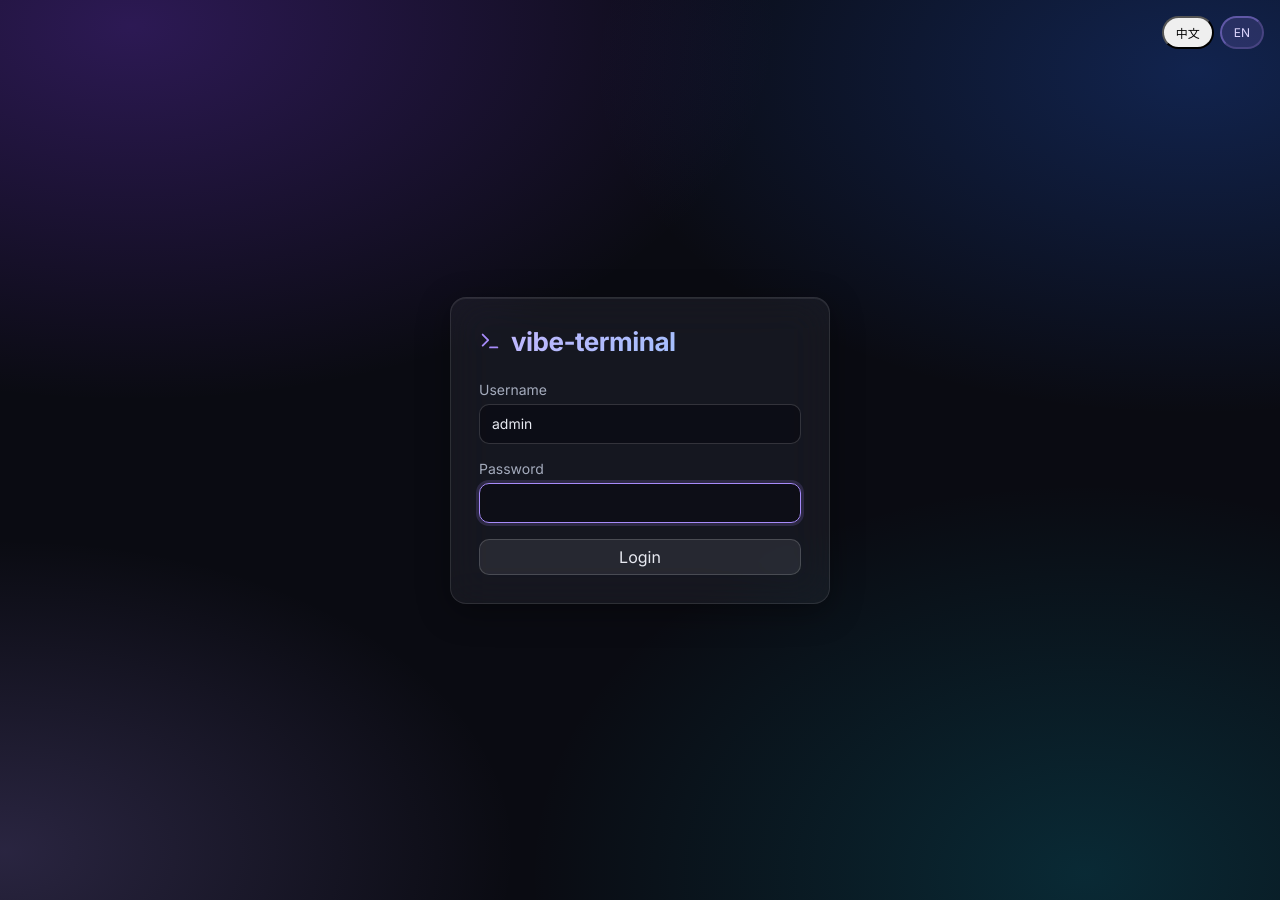
it: LoginView › 提交期间禁用表单并阻止重复提交
Type "secret" into the password field labelled "Password" at {"x": 640, "y": 502}, box [479,482,801,522]
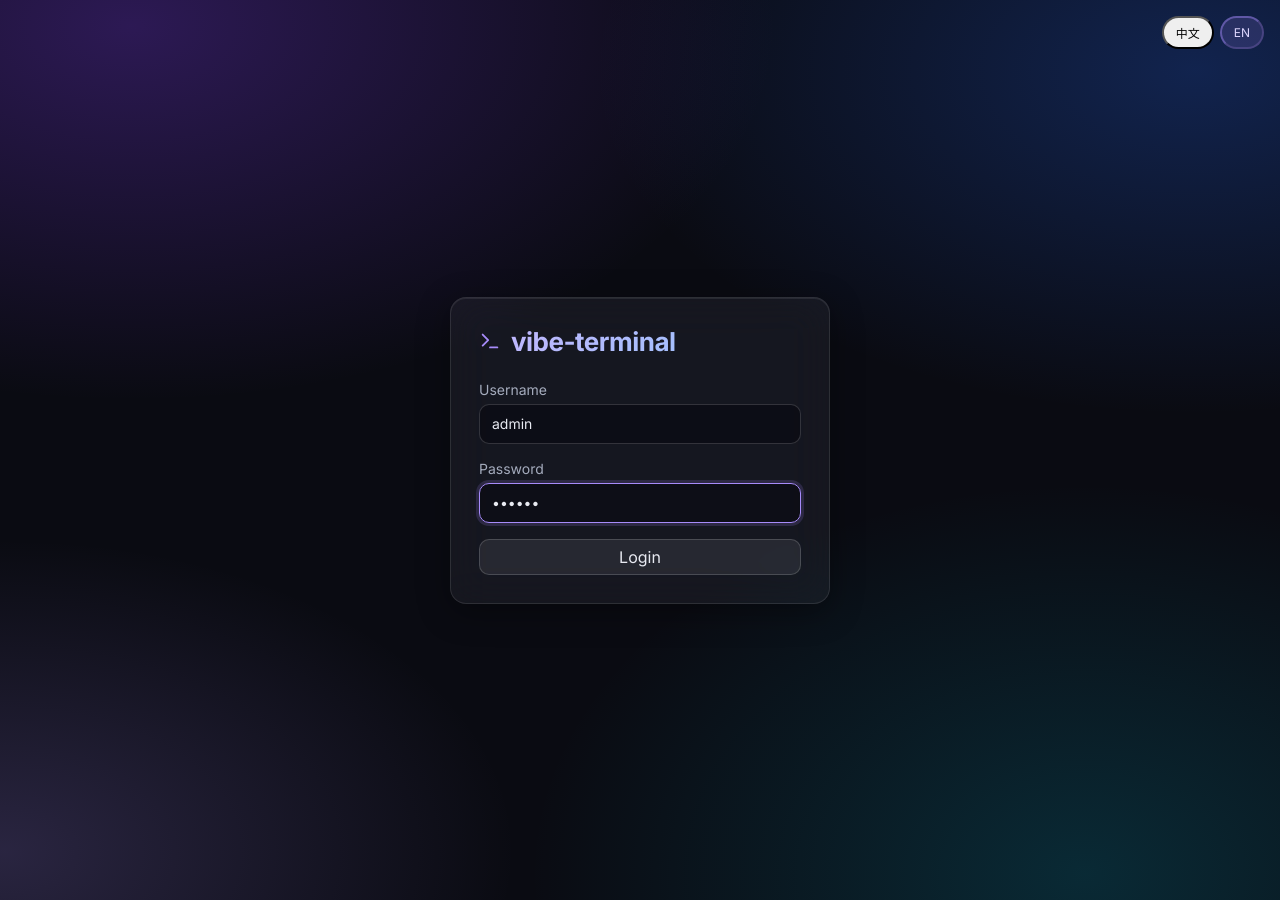
Click the button "Login" at {"x": 640, "y": 556}, box [479,538,801,574]
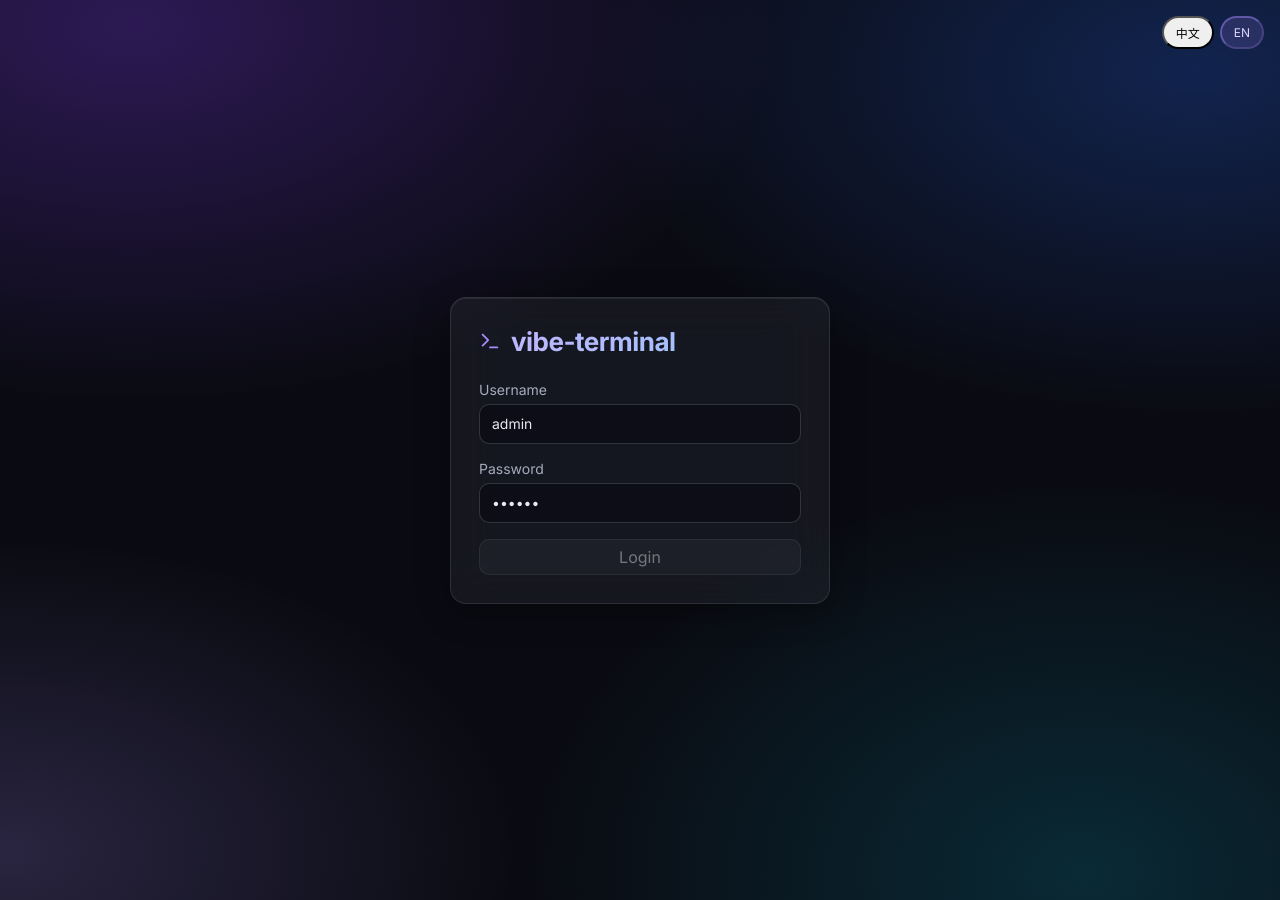
Expected: the button "Login" is disabled
Click the button "Login" at {"x": 640, "y": 556}, box [479,538,801,574]
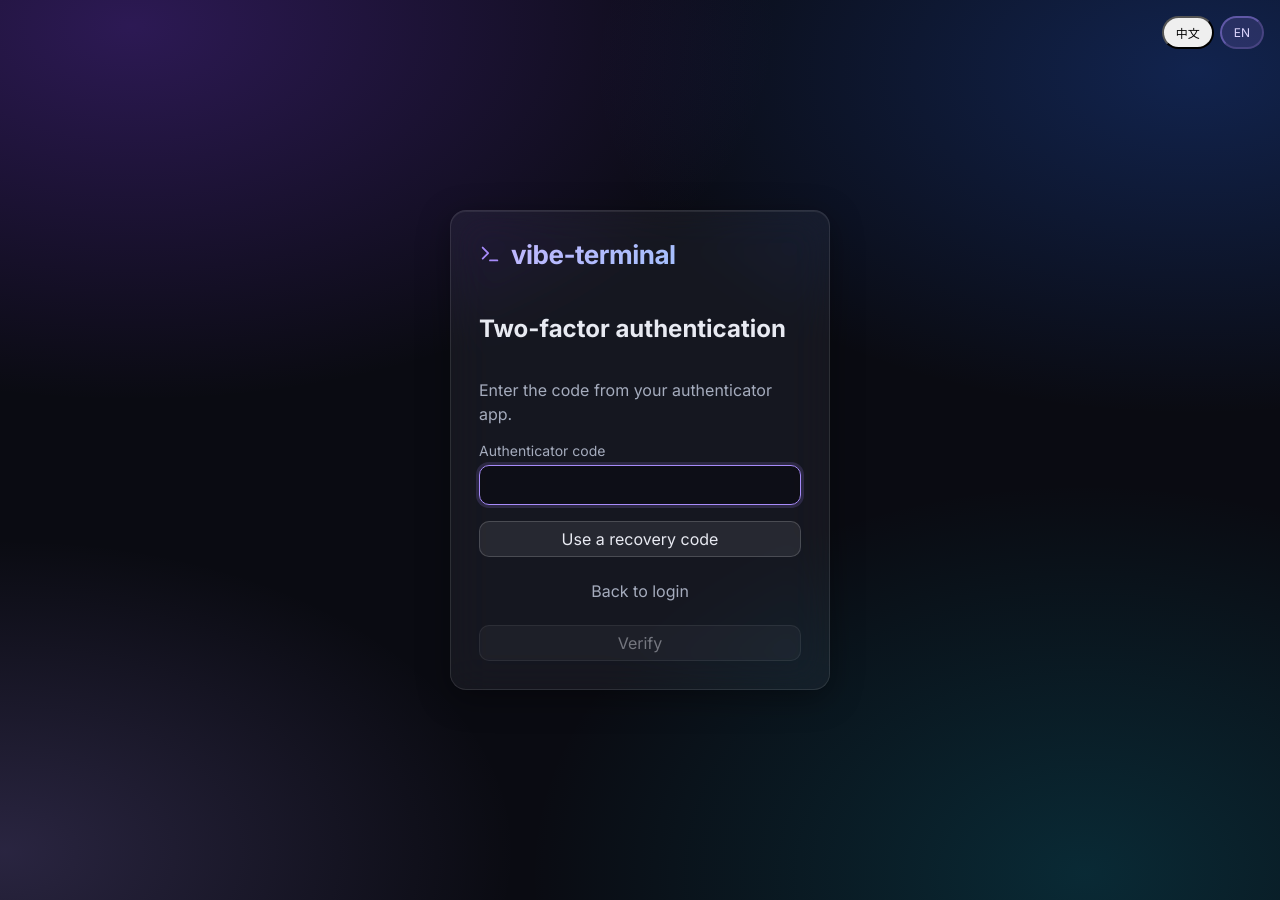
Expected: the heading "Two-factor authentication" is shown, [479,314,801,342]
